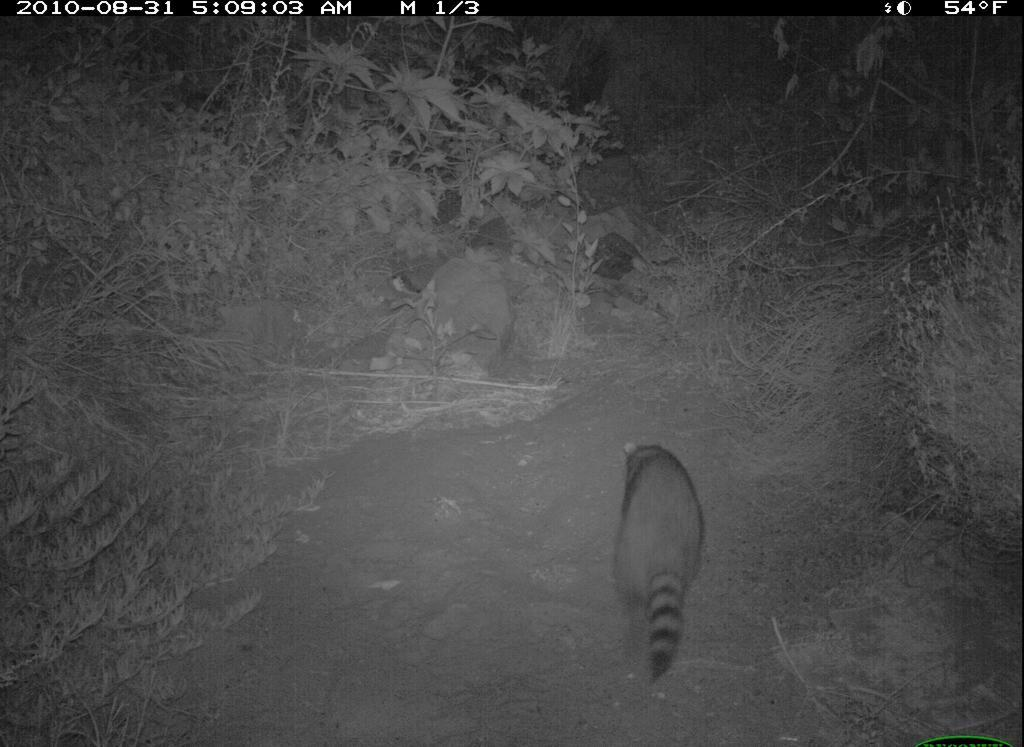raccoon: (609, 441, 712, 685)
